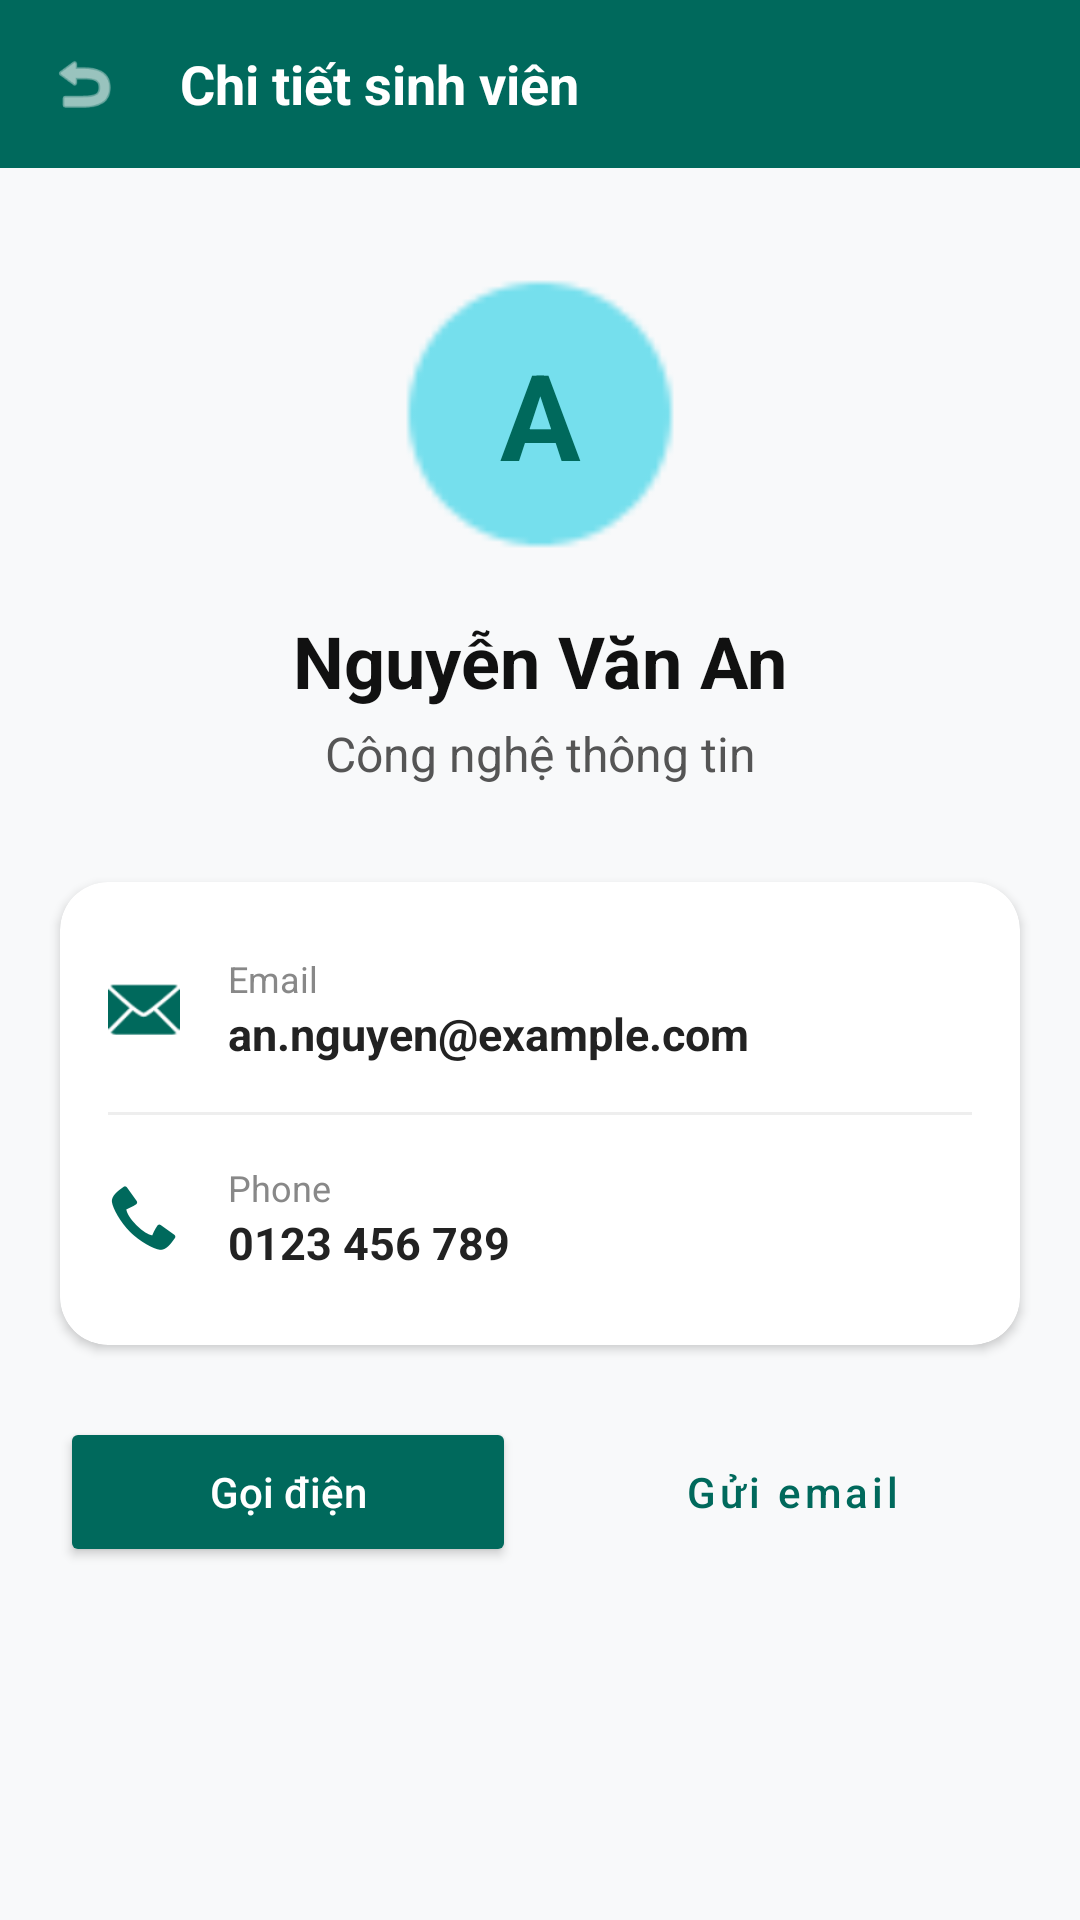

Icon bounding boxes for this 1080x1920 phone screenshot, format (x1, y1, x2, y2):
Back: (59, 61, 111, 108)
